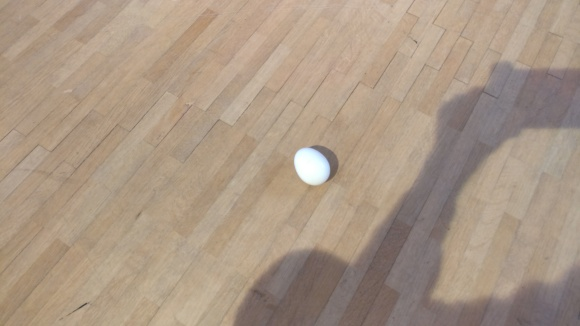egg: (294, 145, 331, 187)
